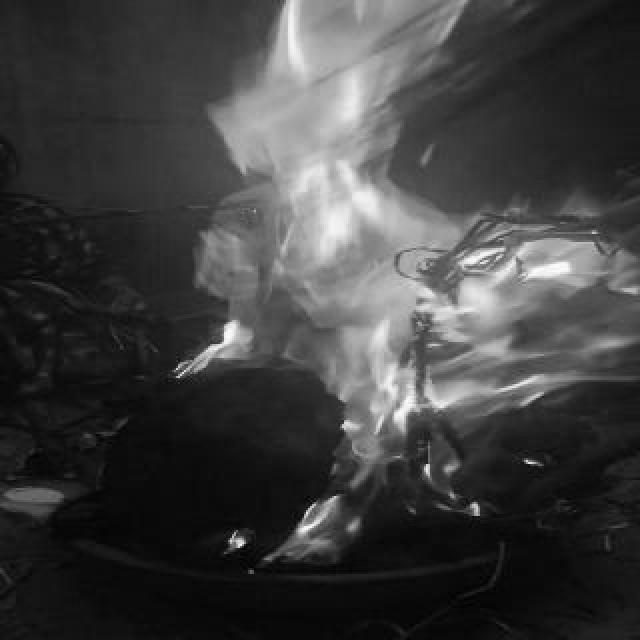Fire: (176, 0, 640, 559)
